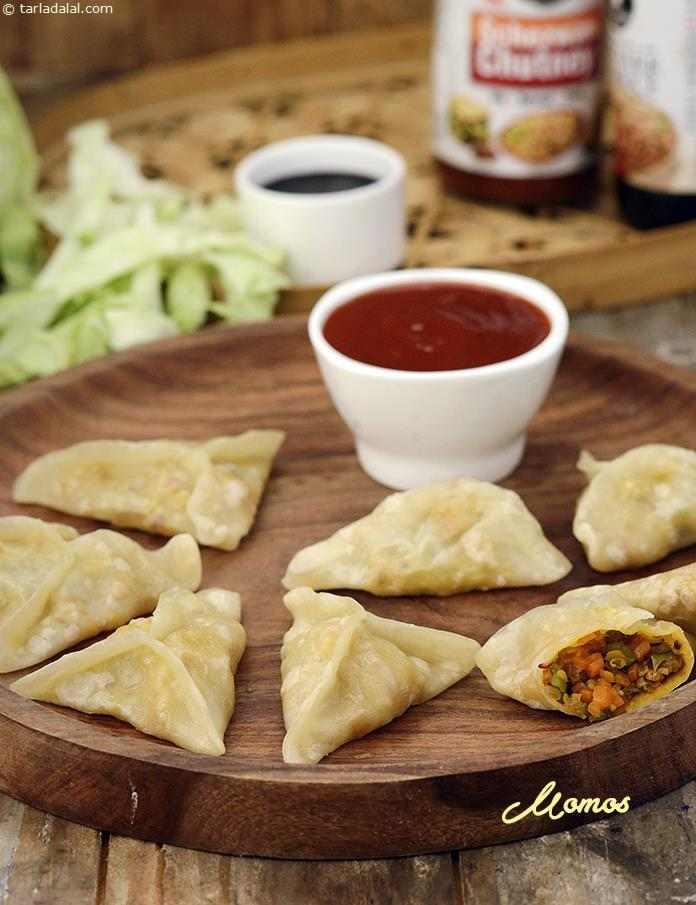momos: (281, 587, 479, 764), (283, 477, 573, 596), (49, 589, 246, 754), (14, 430, 285, 549), (0, 518, 202, 671), (477, 585, 695, 721), (573, 444, 696, 570)
